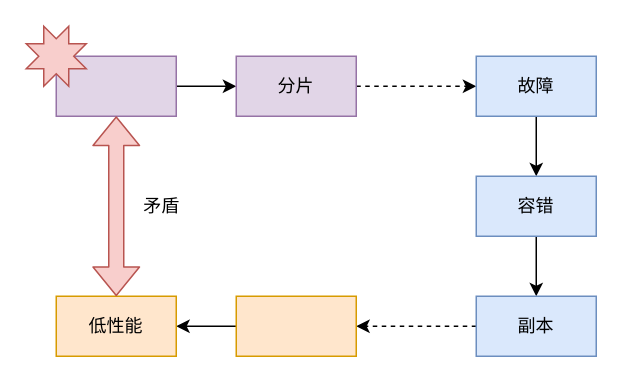
This 623x383 diagram has some shape labels left out. The box of each missing label's shape, as (x1, y1, x2, y2) in pixels:
一致性: (235, 295, 356, 356)
性能: (55, 55, 176, 116)
